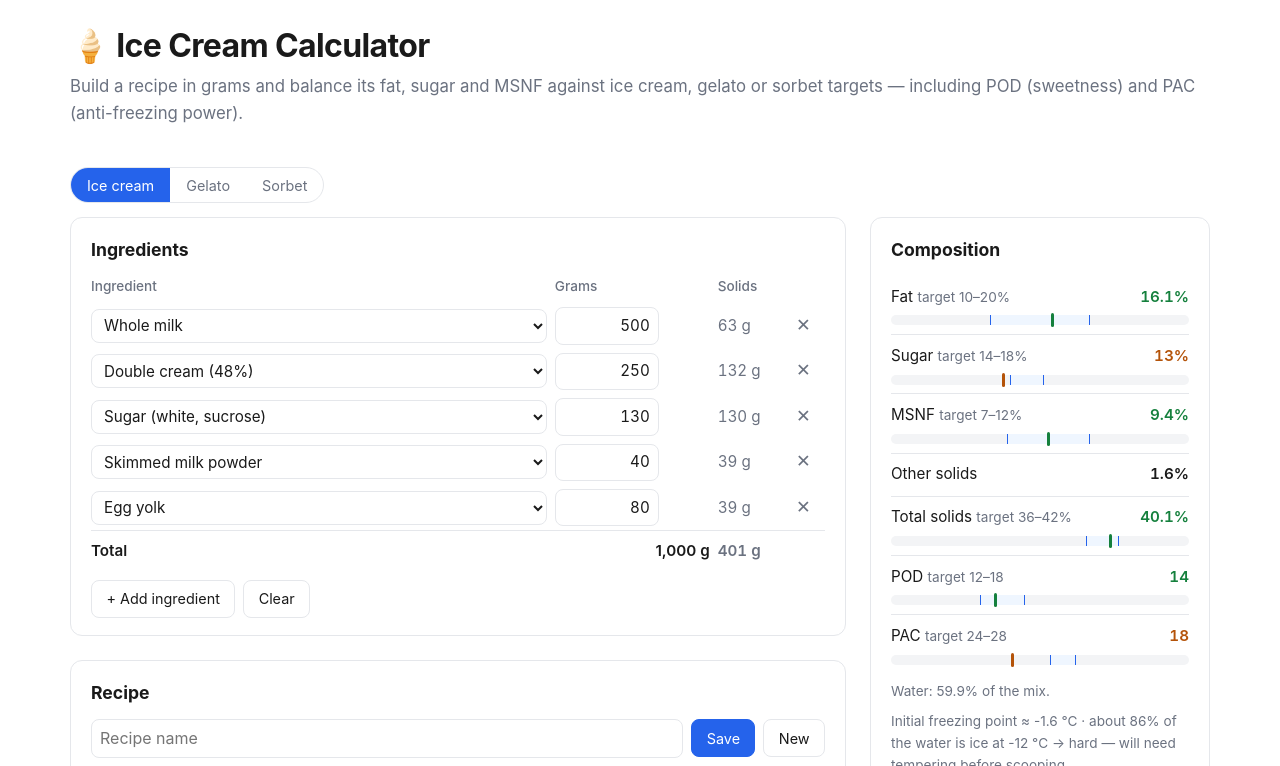
Test: pages render › ice cream computes the default recipe and reacts to edits
Check: the text "1,000 g" is shown, box [555, 531, 718, 568]
Replace the text in the number field named "Grams" next to "63 g" with "0" at (607, 326), box [555, 307, 659, 344]
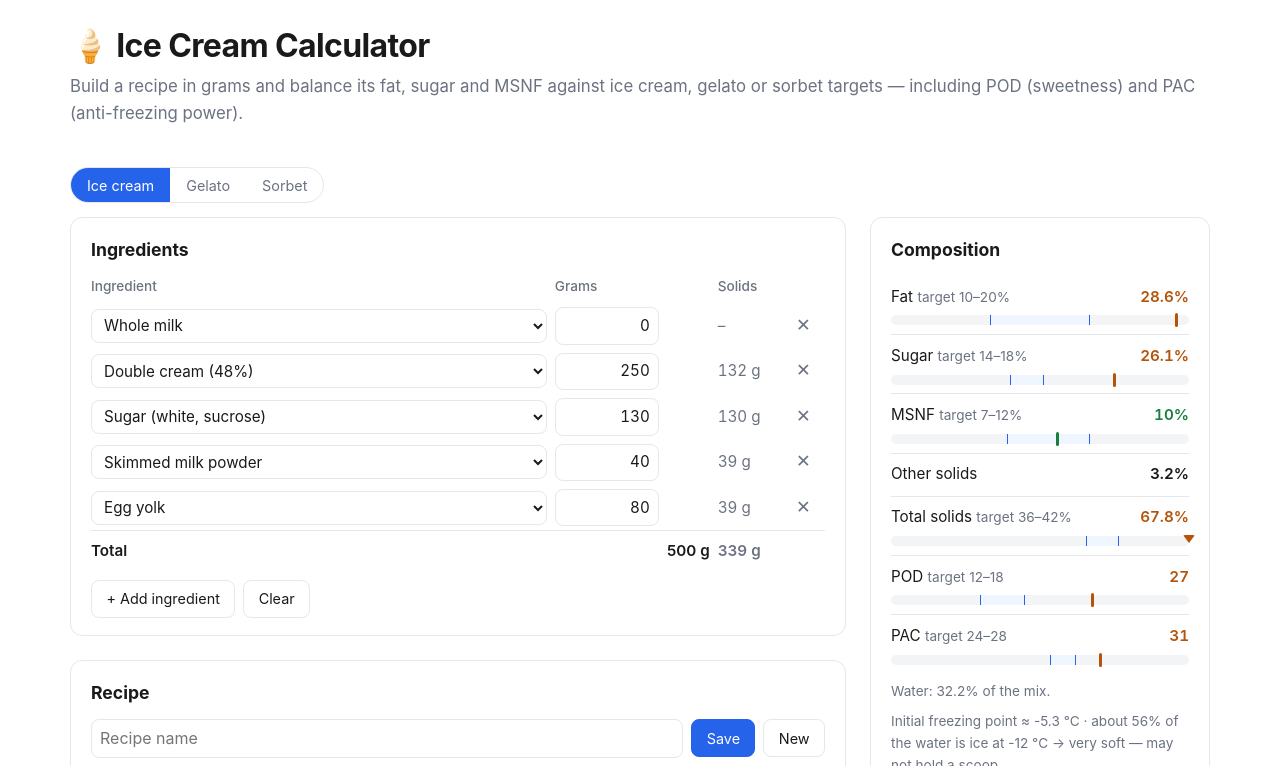
Check: the text "500 g" is shown, box [555, 531, 718, 568]
Click the button "Sorbet" at (285, 185), box [246, 168, 323, 202]
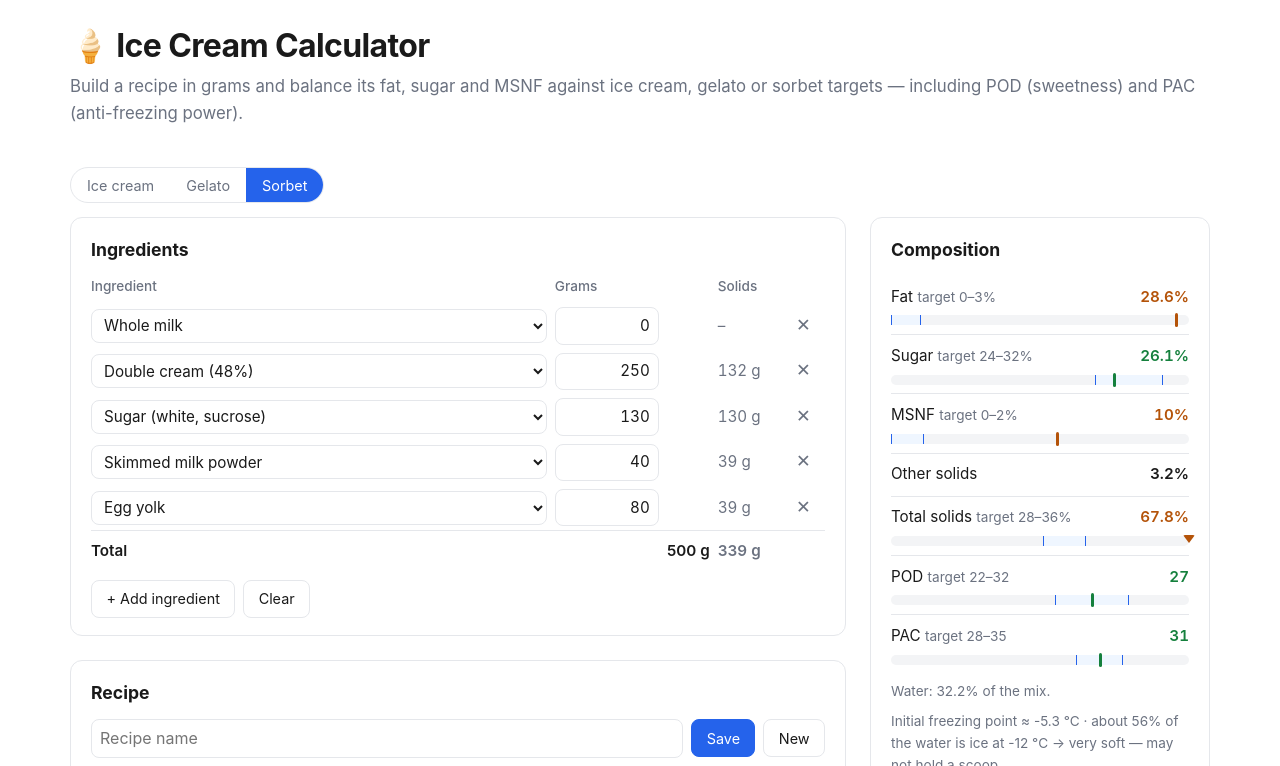
Check: the text "target 24–32%" is shown, box [938, 348, 1033, 364]
Click the button "Save" at (723, 738), box [691, 719, 756, 757]
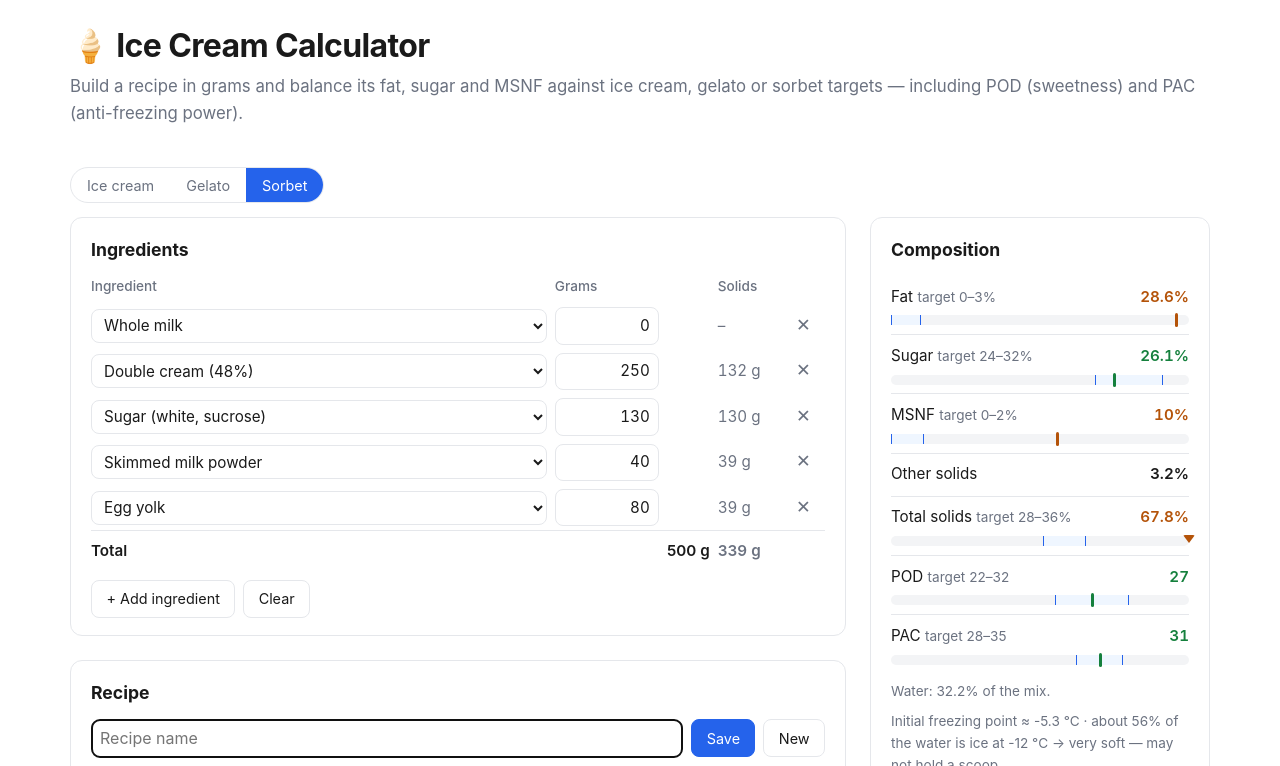
Type "Test base" into the field labelled "Recipe name" at (387, 738), box [91, 719, 683, 758]
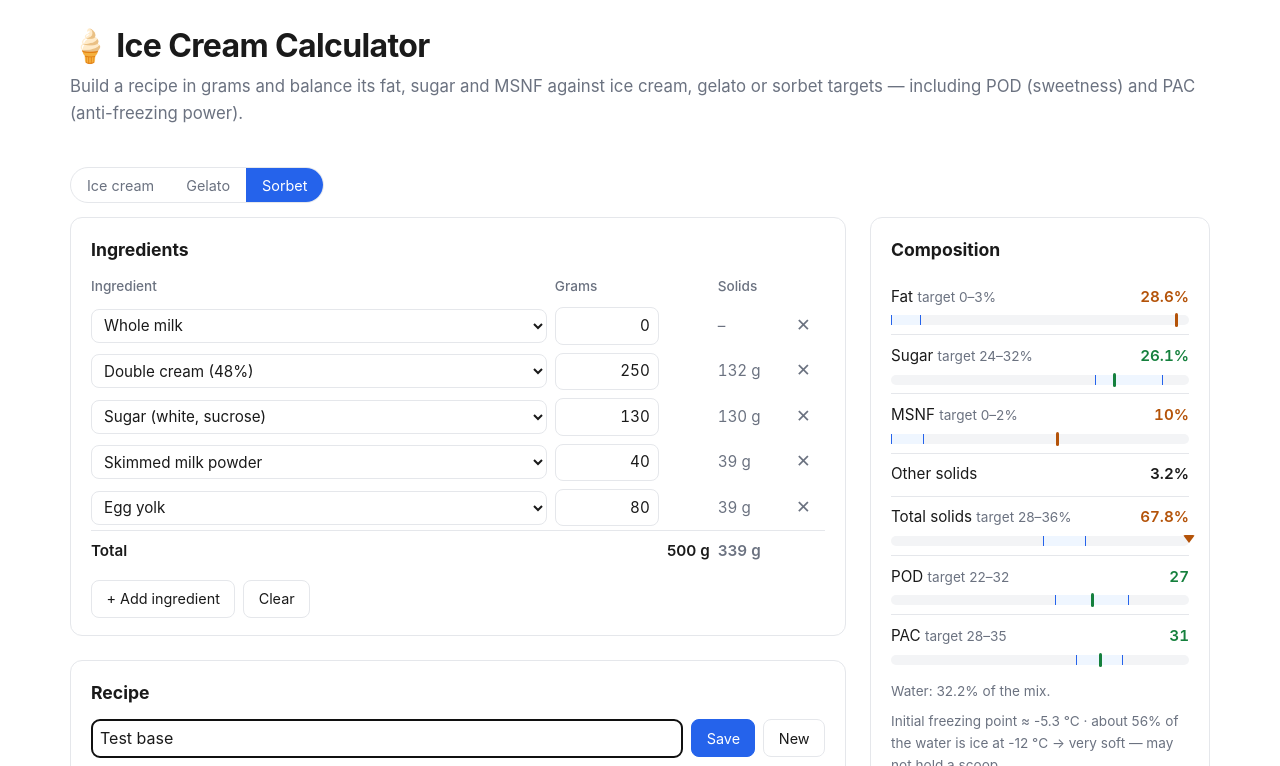
Click the button "Save" at (723, 738), box [691, 719, 756, 757]
(page scrolled)
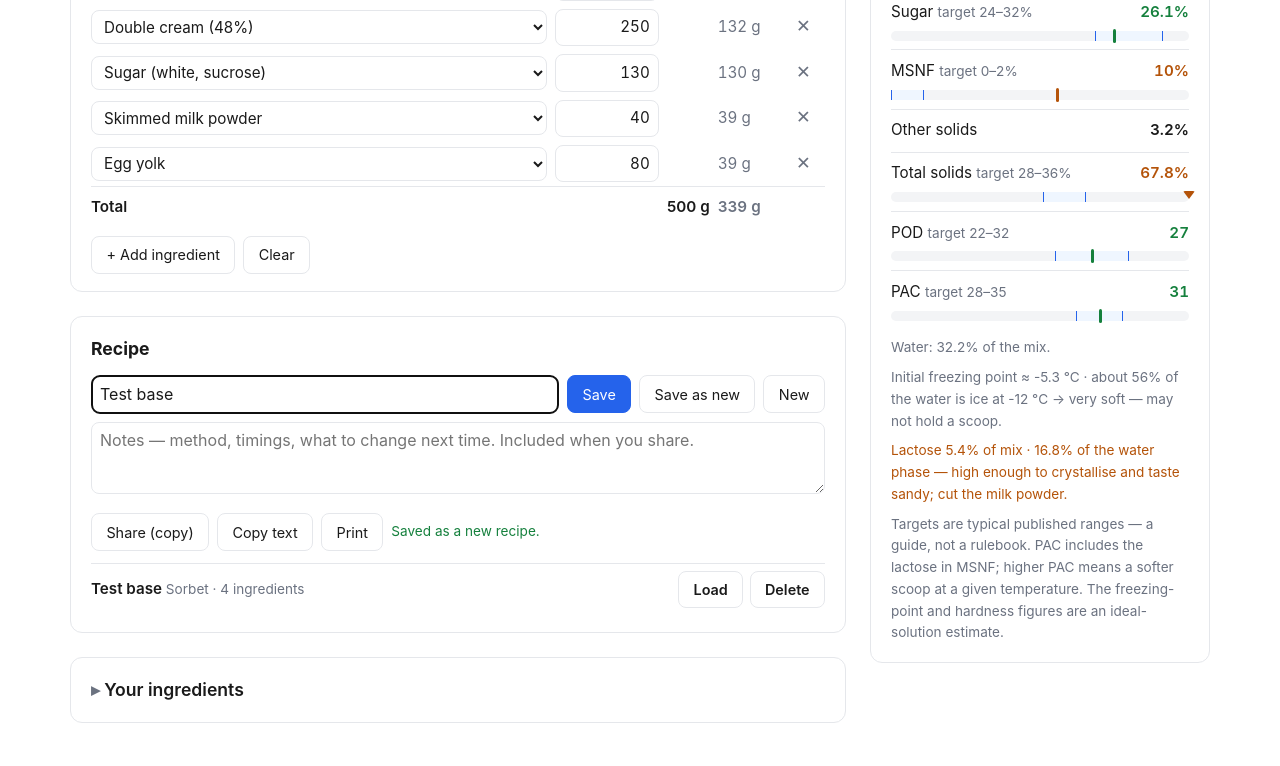
Check: the text "Test base" is shown, box [91, 579, 162, 598]
